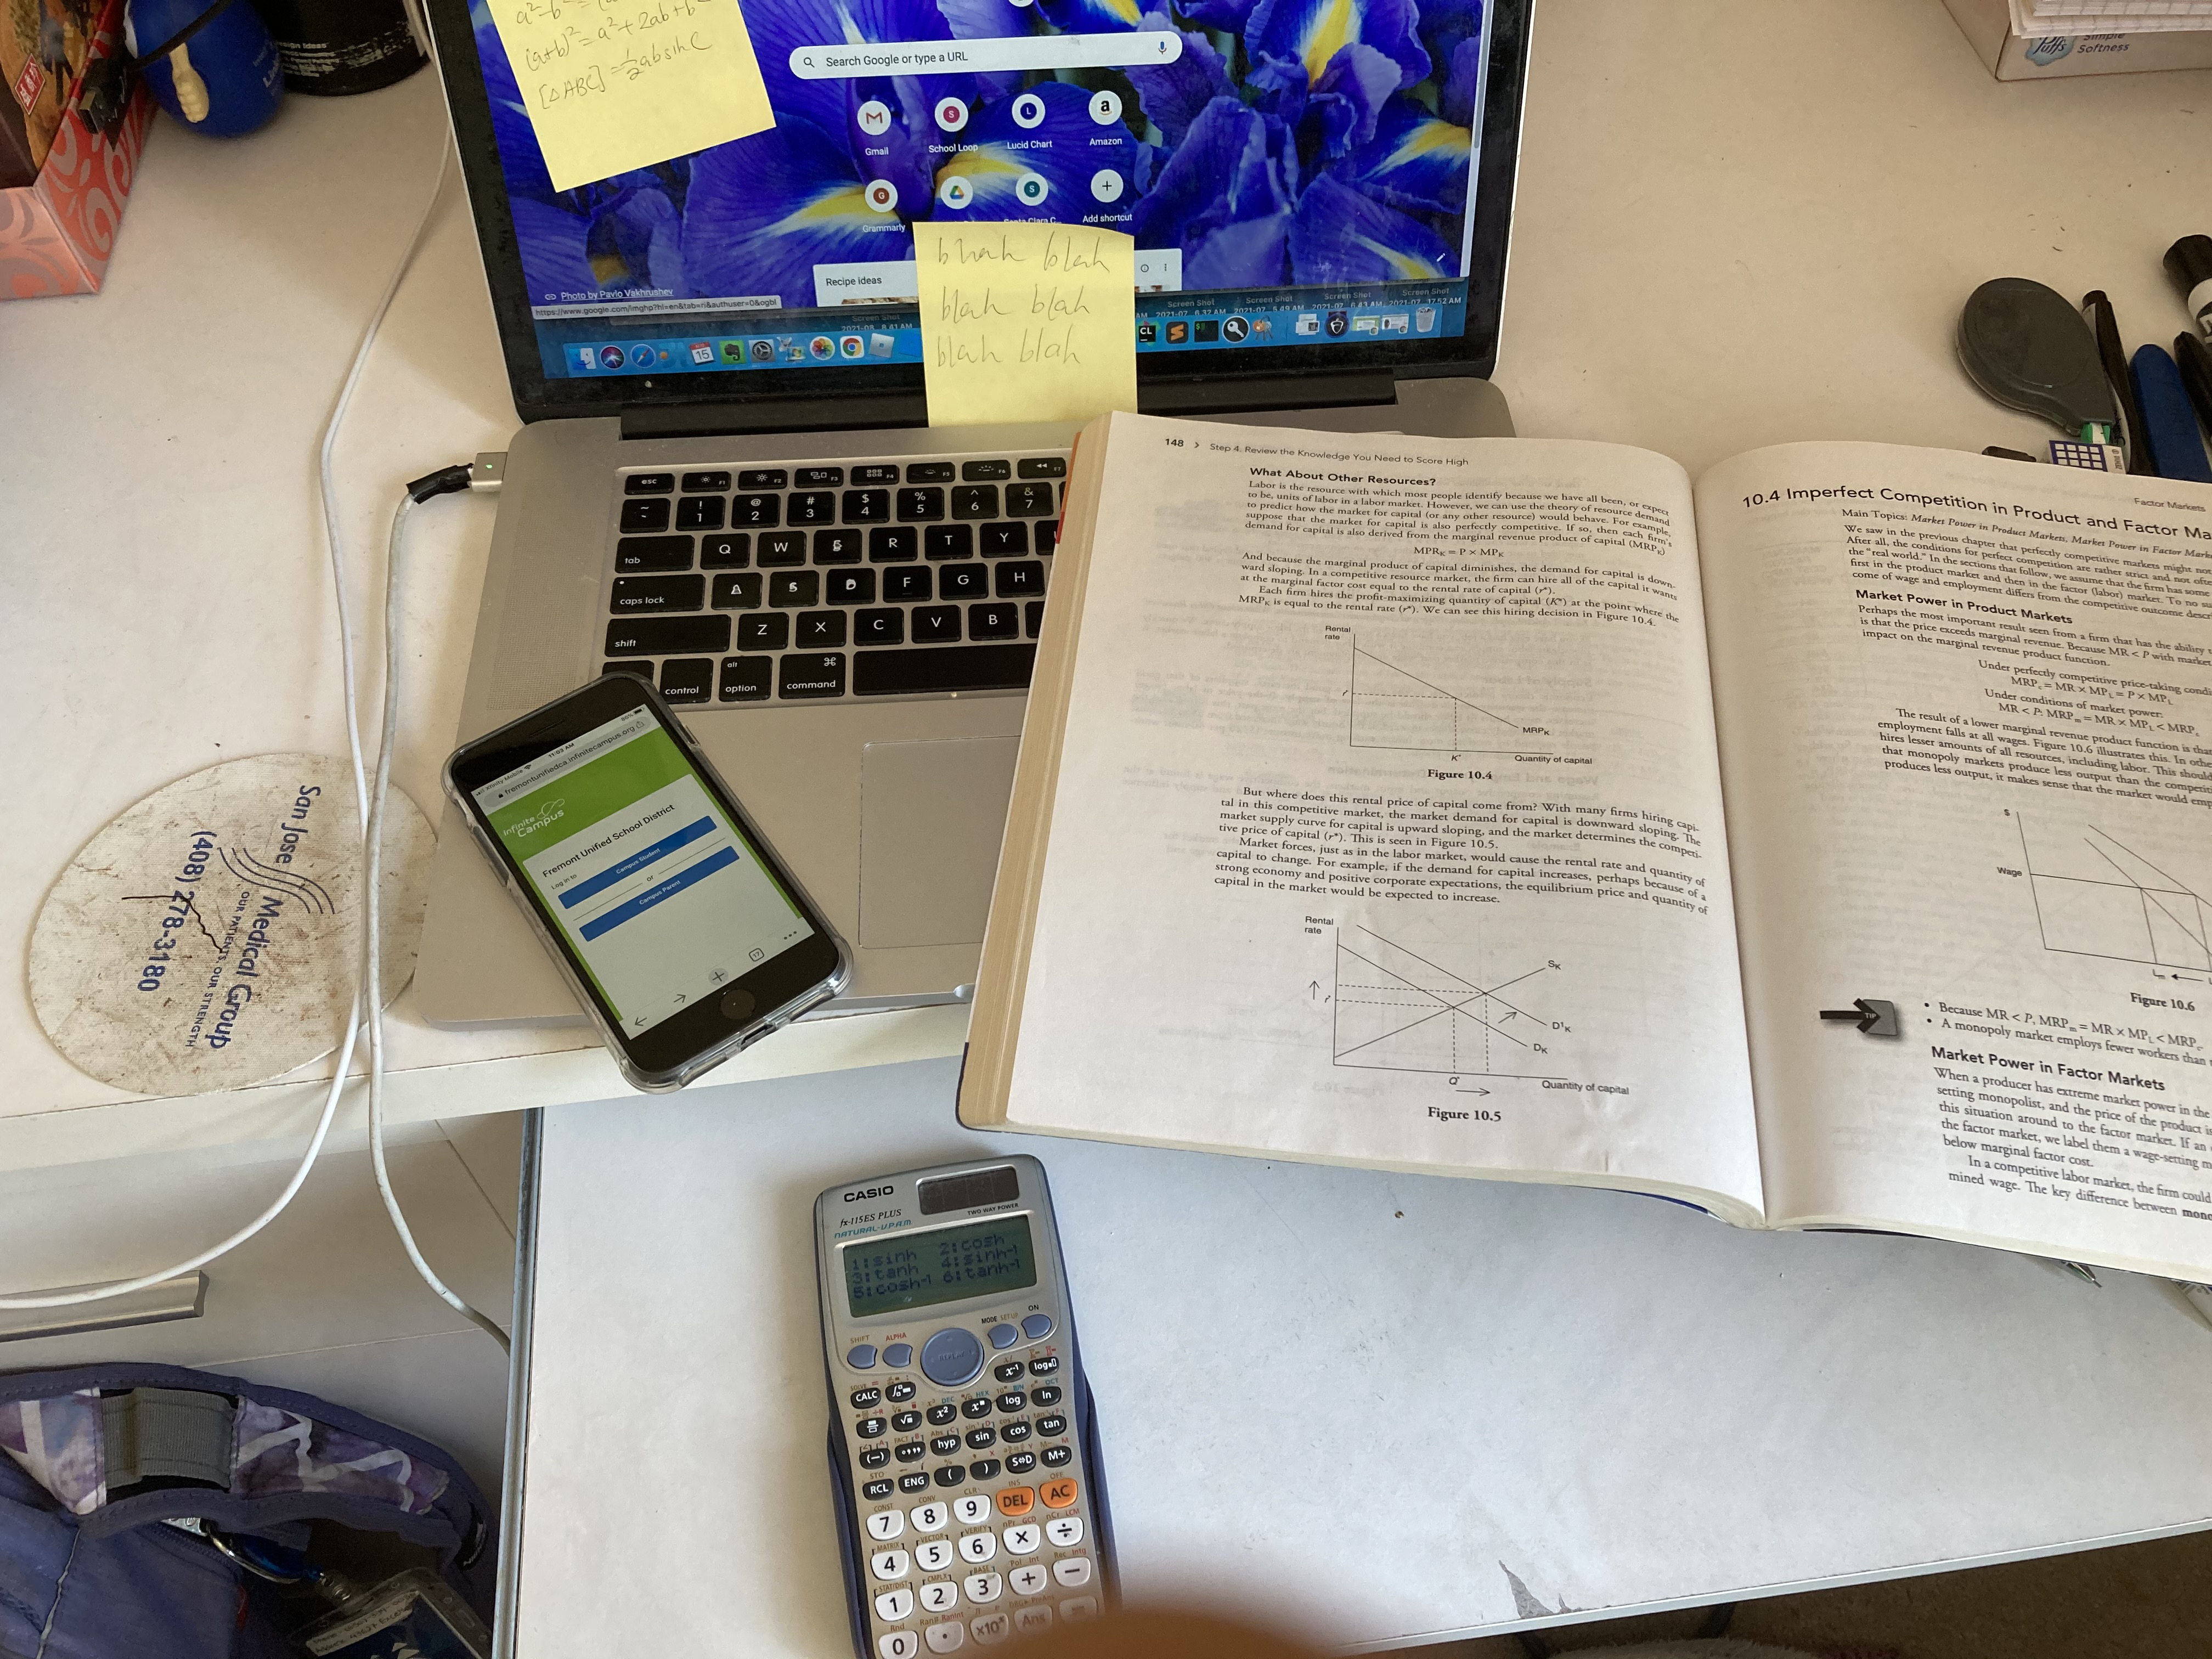Calculator: (819, 1171, 1127, 1659)
Cell Phone: (441, 674, 855, 1070)
Note: (484, 5, 787, 199), (902, 216, 1148, 436)
Open Book: (1012, 410, 2212, 1304)
